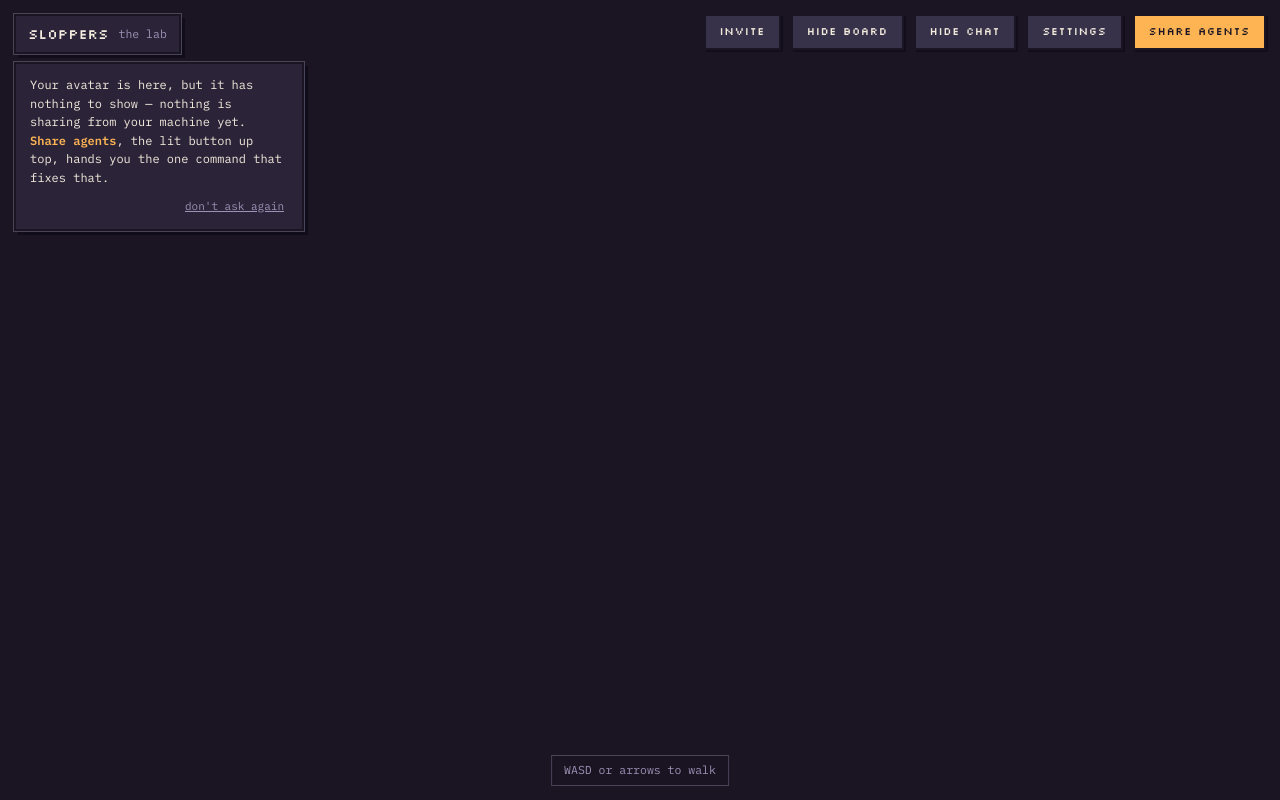
Test: HUD › the empty-avatar nudge › takes "don't ask again" at its word, and keeps it
Click the button "don't ask again". click: (234, 206)
box: [181,196,288,217]
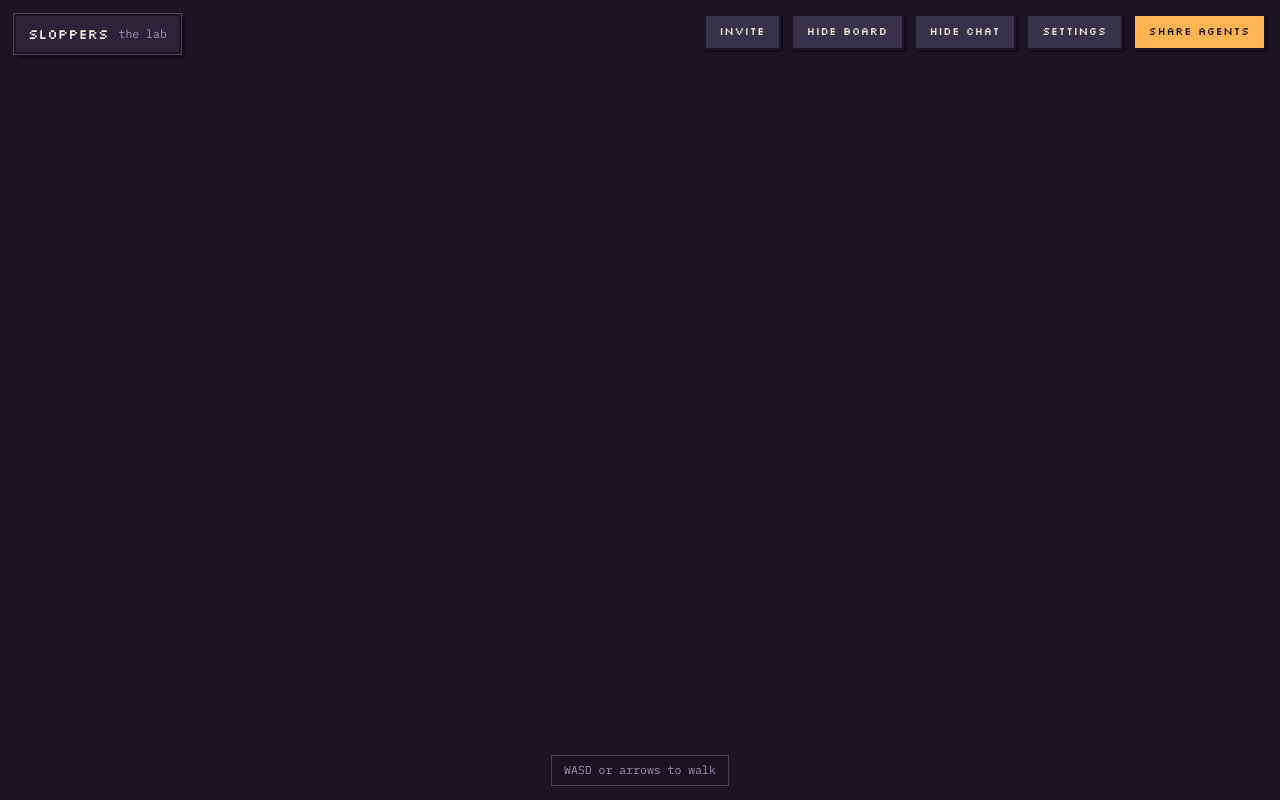
Check: the text "nothing is sharing from your machine" is gone
